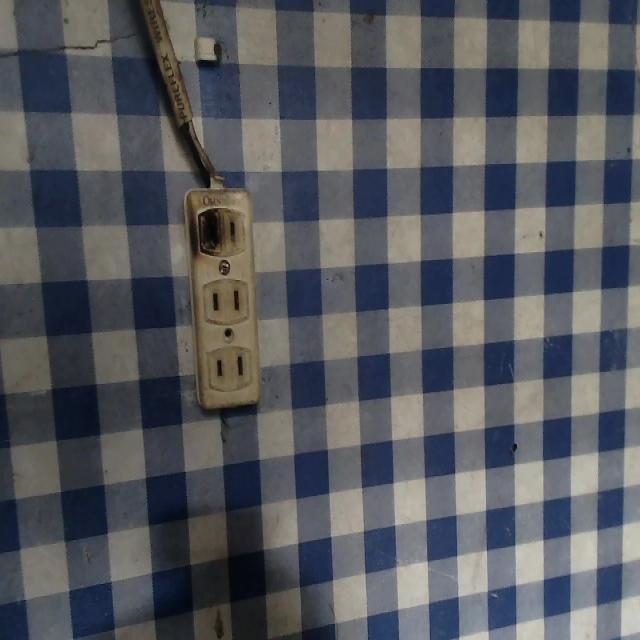-: (191, 201, 225, 256)
